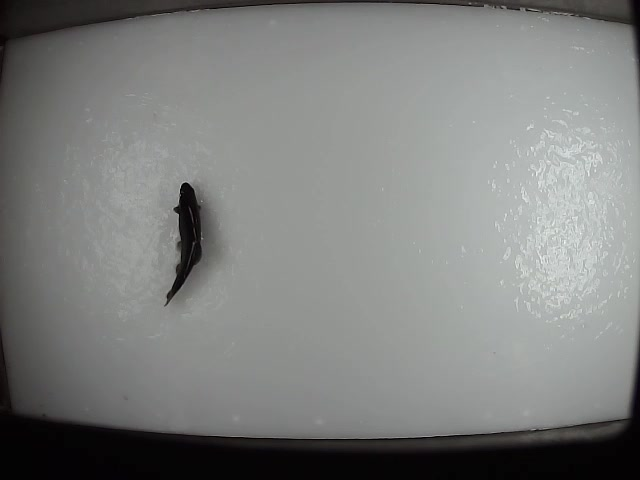fish: (160, 180, 210, 311)
